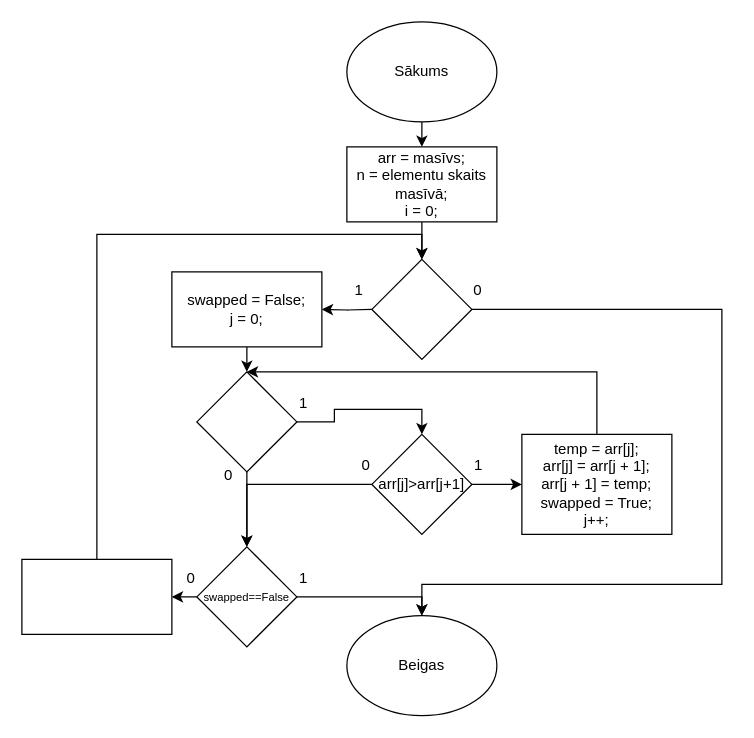
Some shapes in this 754 by 738 pixel diagram are drawn without their labels. Here are the shapes that lost their labels. From the top down, the box of each, then its label:
(371, 258, 472, 359): i < n
(196, 371, 297, 472): j < (n - i - 1)
(21, 558, 172, 634): i++;
